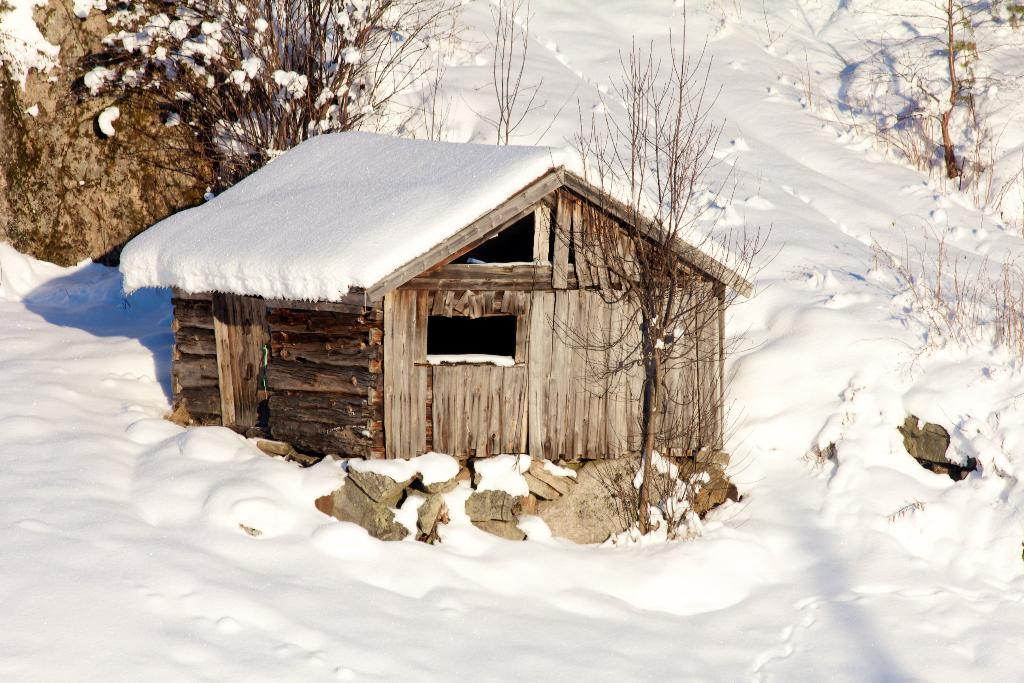Tree: (540, 0, 787, 541), (59, 0, 460, 194), (843, 1, 1024, 180), (462, 2, 541, 142)
